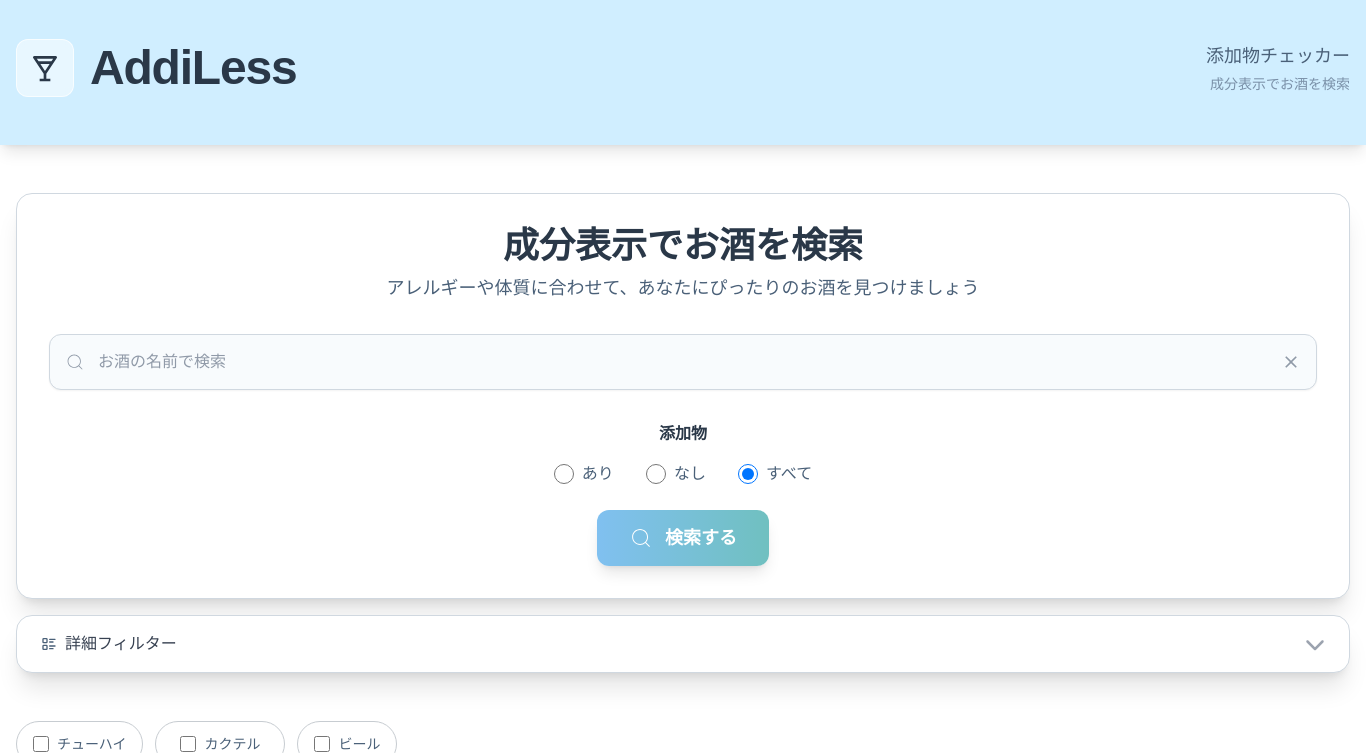
AdditivesSearch › 検索結果が0件の場合、0件のメッセージが表示される
The image size is (1366, 753).
Click the button with test id "detail_filter_button".
click(121, 644)  # box [17, 616, 1349, 672]
(page scrolled)
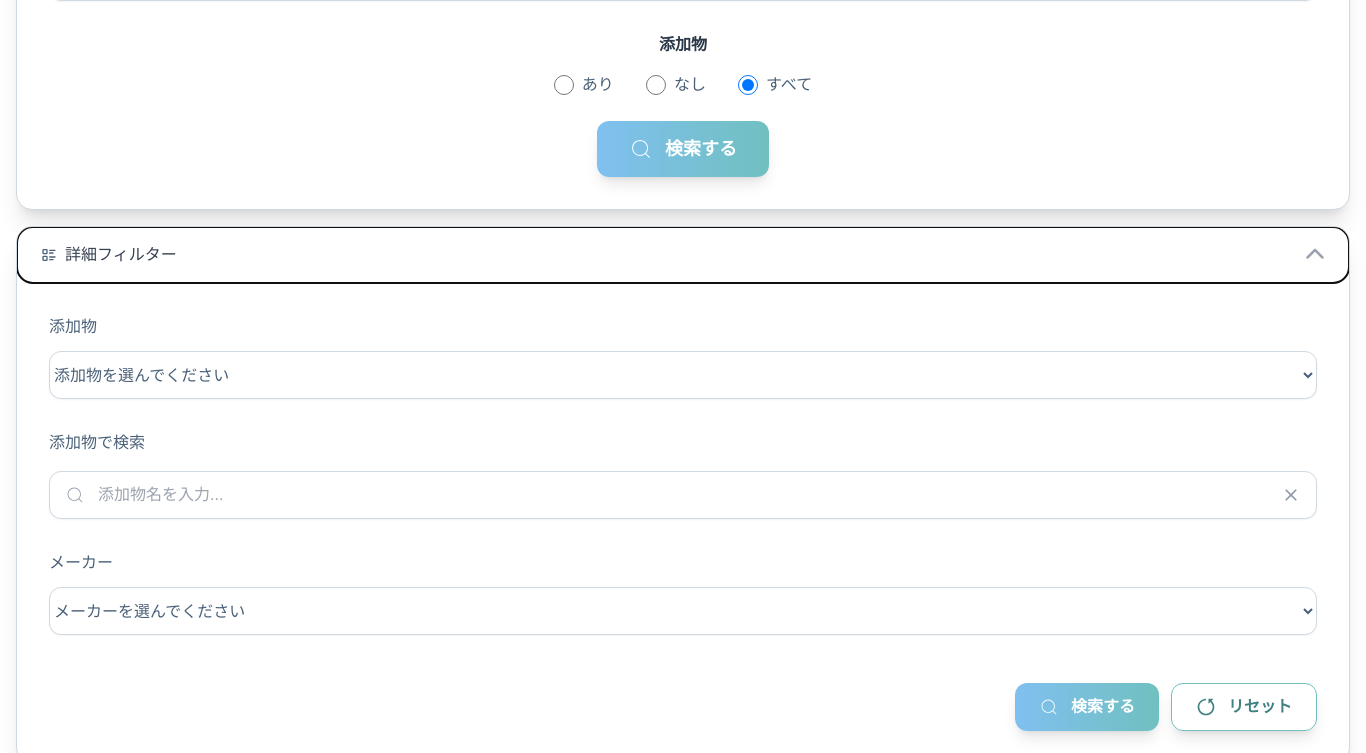
Select "発色剤" in the dropdown with test id "select_additives" at (683, 375), box [49, 351, 1317, 399]
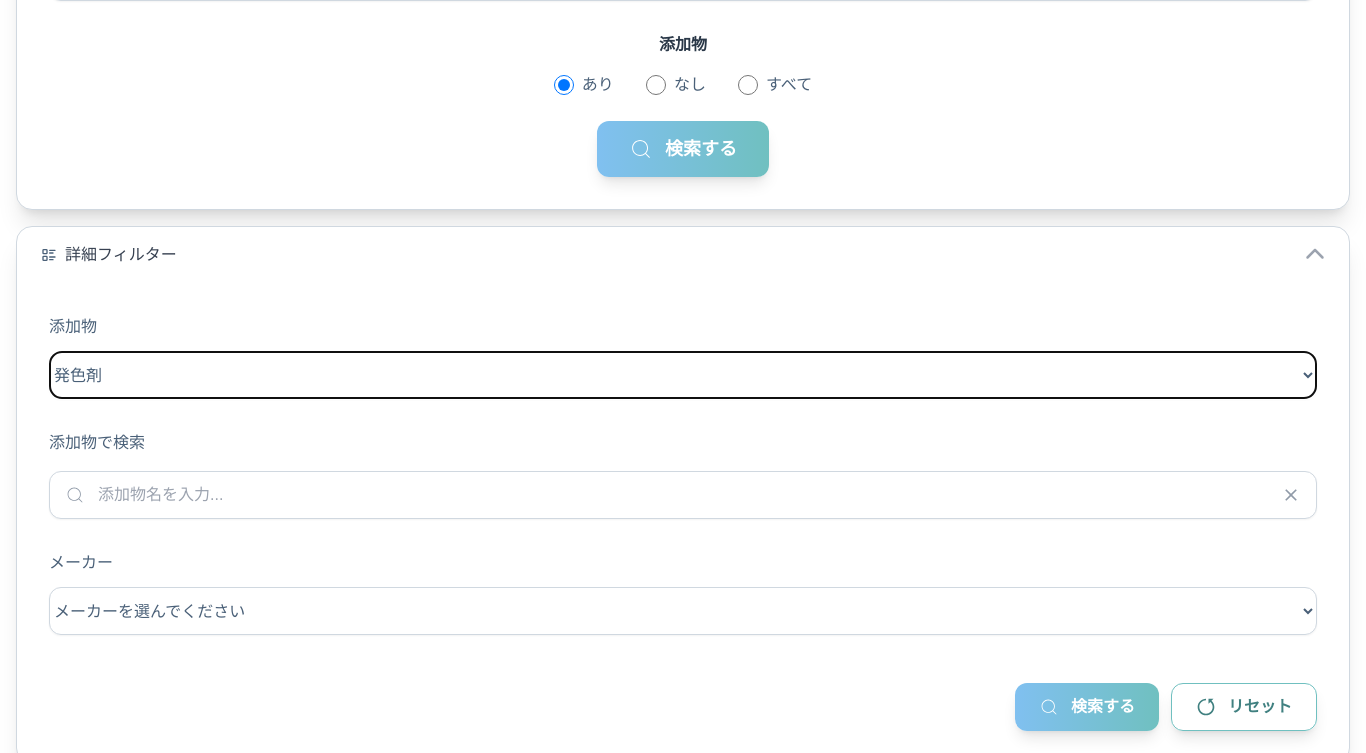
Click the button with test id "search_button".
click(683, 149)  # box [597, 121, 769, 177]
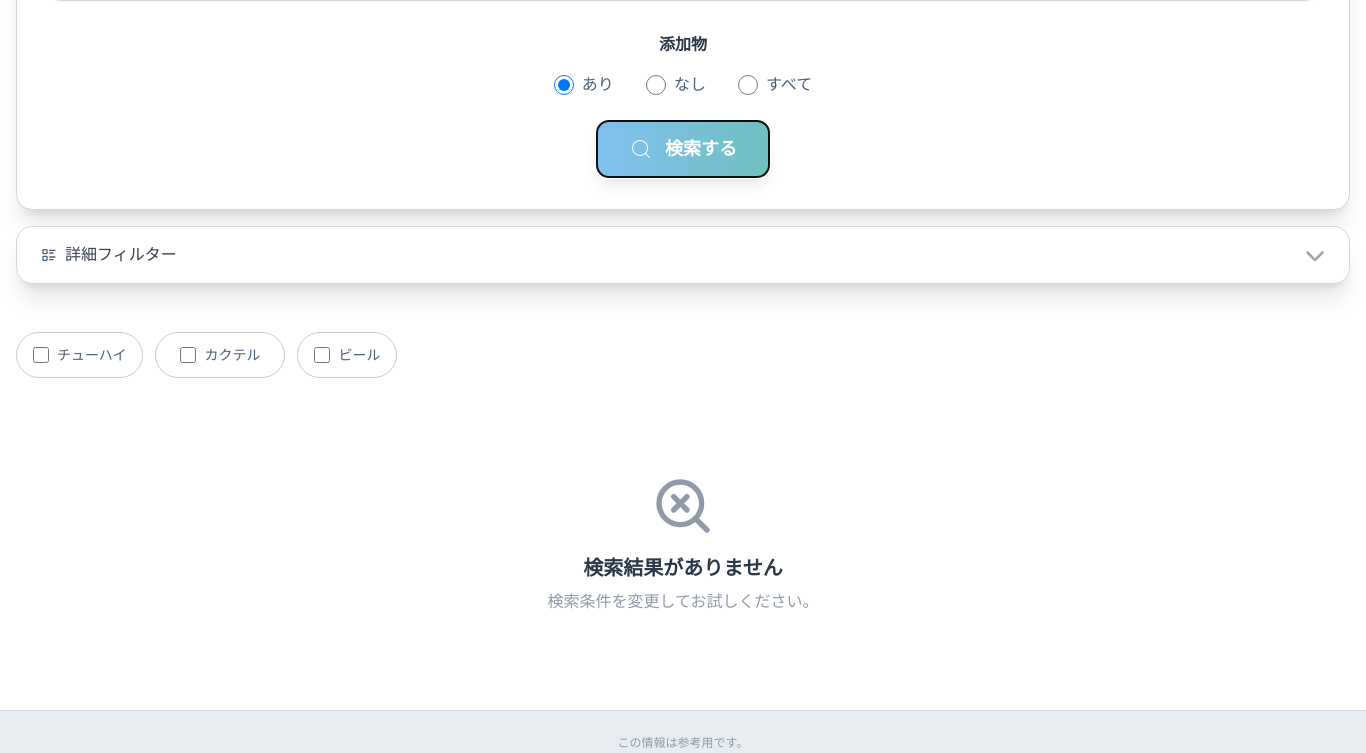
Expected: the heading "検索結果がありません" is shown, [583, 557, 783, 579]
